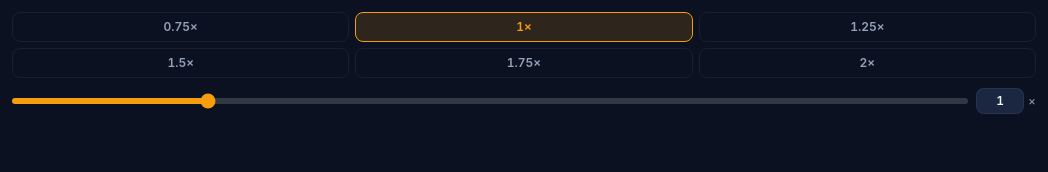
Test: PlaybackSpeedControl › text input reverts on negative value
Replace the text in the field named "playback speed value" with "-2" at point(1000, 101), box x1=976 y1=88 x2=1024 y2=114
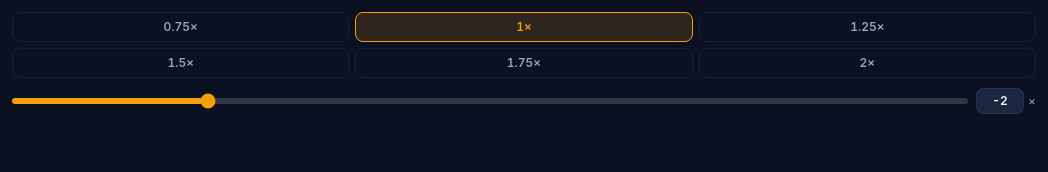
Leave the field named "playback speed value", box x1=976 y1=88 x2=1024 y2=114
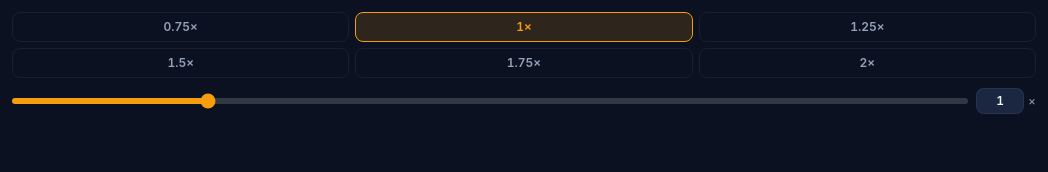
Expected: the field named "playback speed value" holds "1", x1=976 y1=88 x2=1024 y2=114
